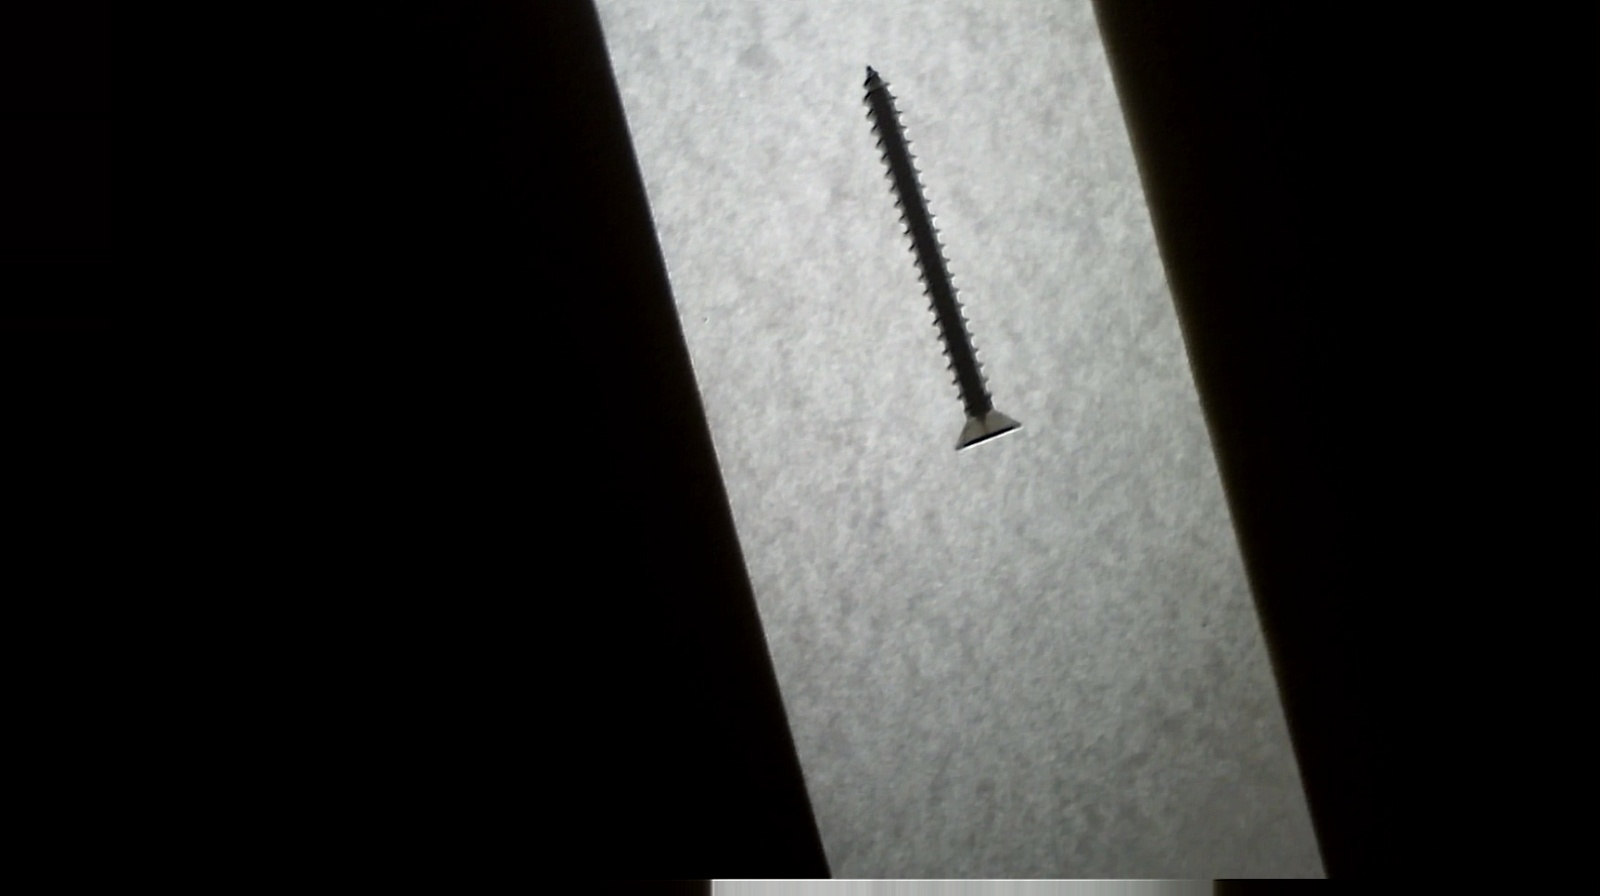S002: (836, 43, 1035, 463)
